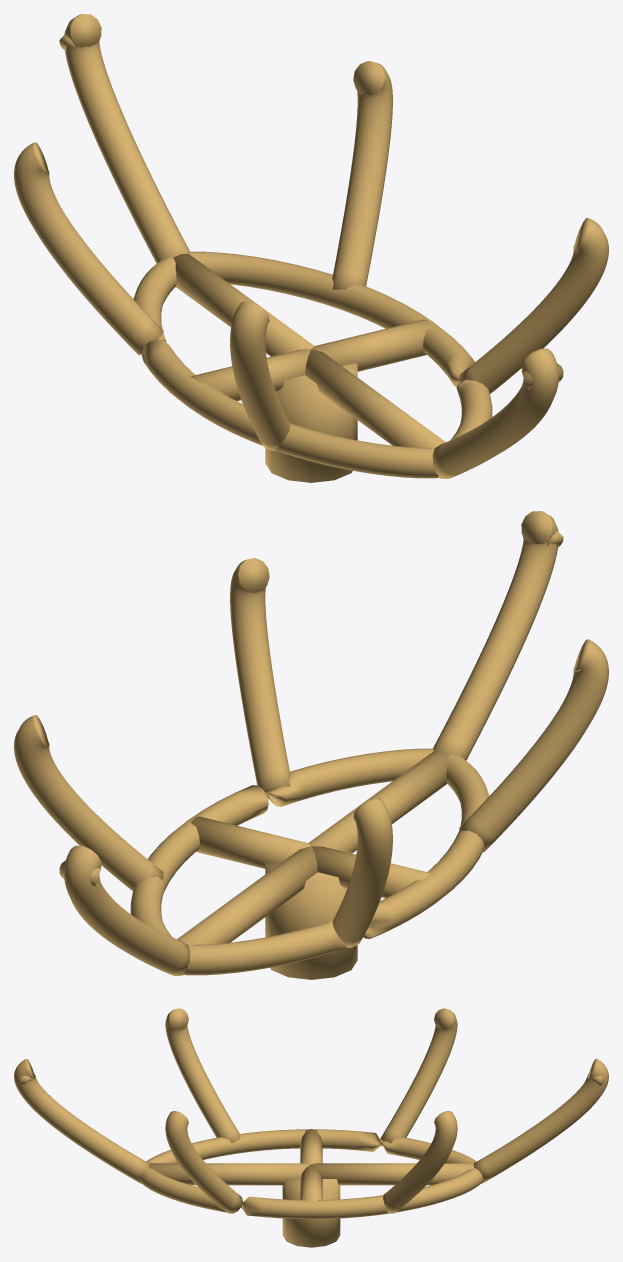
Rendered from stuller-lg-500127752-6-prong.glb.
The picture shows the model from 3 angles, top to bottom: view 1: azimuth 30°, elevation 25°; view 2: azimuth 150°, elevation 25°; view 3: azimuth 270°, elevation 25°; orthographic projection. The views are drawn at different scales.
Visible parts, largest first — view 1: Metal.214, Metal.220, Metal.221, Metal.219, Metal.224, Metal.223, Metal.222, Metal.218, Metal.213, Metal.216, Metal.215, Metal.217; view 2: Metal.214, Metal.223, Metal.224, Metal.222, Metal.219, Metal.220, Metal.221, Metal.216, Metal.213, Metal.218, Metal.215, Metal.217; view 3: Metal.214, Metal.223, Metal.220, Metal.221, Metal.222, Metal.224, Metal.219, Metal.216, Metal.218, Metal.213, Metal.215, Metal.217.
Boxes of the visible parts, <box> form: Metal.214: <box>133,251,492,478</box>; Metal.220: <box>64,14,189,263</box>; Metal.221: <box>14,142,163,355</box>; Metal.219: <box>332,61,392,289</box>; Metal.224: <box>459,218,608,393</box>; Metal.223: <box>432,348,558,478</box>; Metal.222: <box>230,301,290,450</box>; Metal.218: <box>305,349,445,448</box>; Metal.213: <box>265,353,357,482</box>; Metal.216: <box>173,254,314,356</box>; Metal.215: <box>312,319,431,371</box>; Metal.217: <box>191,349,311,401</box>; Metal.214: <box>130,748,489,975</box>; Metal.223: <box>433,511,558,760</box>; Metal.224: <box>230,558,290,798</box>; Metal.222: <box>459,639,608,852</box>; Metal.219: <box>14,715,163,890</box>; Metal.220: <box>64,845,190,975</box>; Metal.221: <box>332,798,392,947</box>; Metal.216: <box>177,846,317,945</box>; Metal.213: <box>265,850,357,979</box>; Metal.218: <box>308,751,449,853</box>; Metal.215: <box>191,816,310,868</box>; Metal.217: <box>311,846,431,898</box>; Metal.214: <box>139,1129,483,1219</box>; Metal.223: <box>14,1059,149,1183</box>; Metal.220: <box>473,1059,608,1183</box>; Metal.221: <box>380,1008,457,1143</box>; Metal.222: <box>165,1008,240,1143</box>; Metal.224: <box>165,1111,242,1213</box>; Metal.219: <box>382,1111,457,1213</box>; Metal.216: <box>312,1163,473,1185</box>; Metal.218: <box>149,1163,310,1185</box>; Metal.213: <box>282,1179,340,1247</box>; Metal.215: <box>300,1164,322,1219</box>; Metal.217: <box>300,1129,322,1164</box>.
Bounding box in the file's own units: 5.62 × 4.05 × 12.43.
